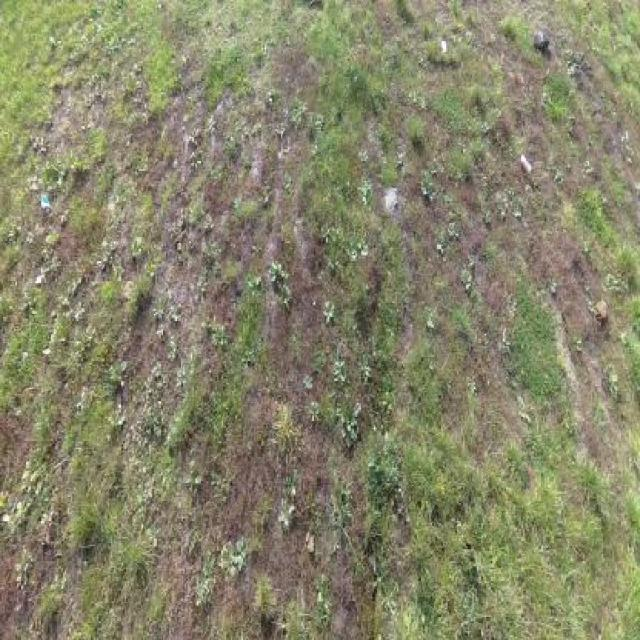Garbage: (518, 154, 533, 176), (594, 298, 608, 319), (39, 193, 52, 214), (440, 39, 448, 55)
